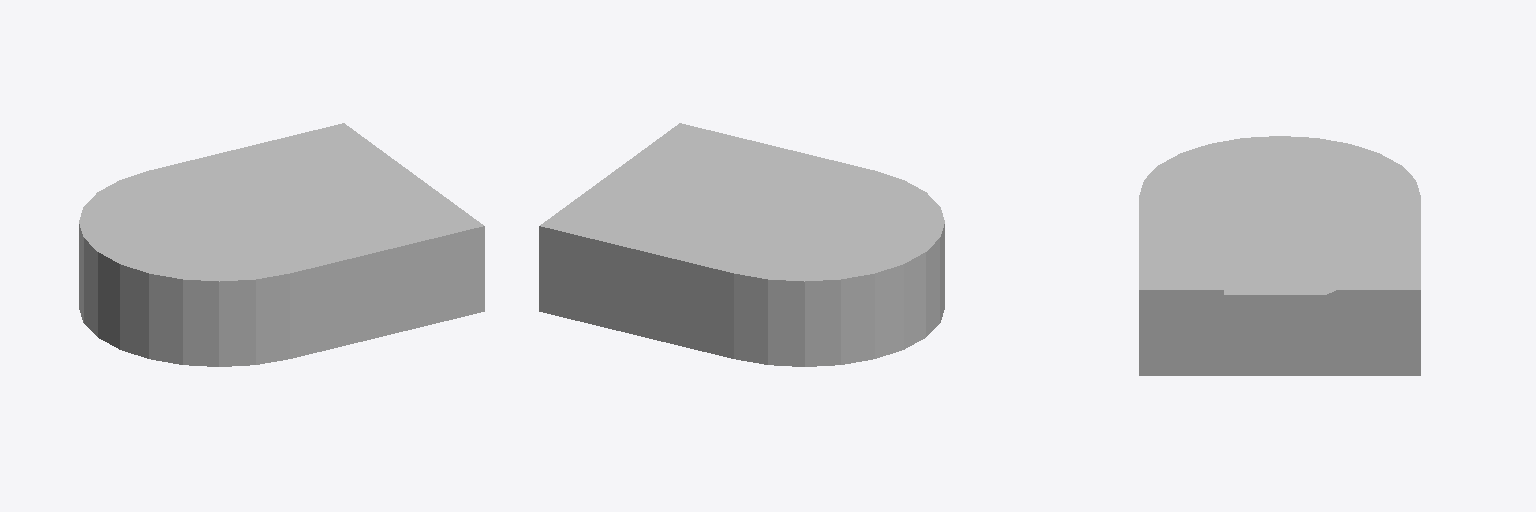
Rendered from roadTile_136.obj.
3 renders of one model, left to right at view 1: azimuth 30°, elevation 25°; view 2: azimuth 150°, elevation 25°; view 3: azimuth 270°, elevation 25°, orthographic.
Parts seen in each view (by area): view 1: Mesh1 Group1 Model; view 2: Mesh1 Group1 Model; view 3: Mesh1 Group1 Model.
Boxes of the visible parts, <box> form: Mesh1 Group1 Model: <box>79,123,484,366</box>; Mesh1 Group1 Model: <box>539,123,944,366</box>; Mesh1 Group1 Model: <box>1139,136,1420,375</box>.
Size of the model in its own units: 2.44 by 0.63 by 1.88.